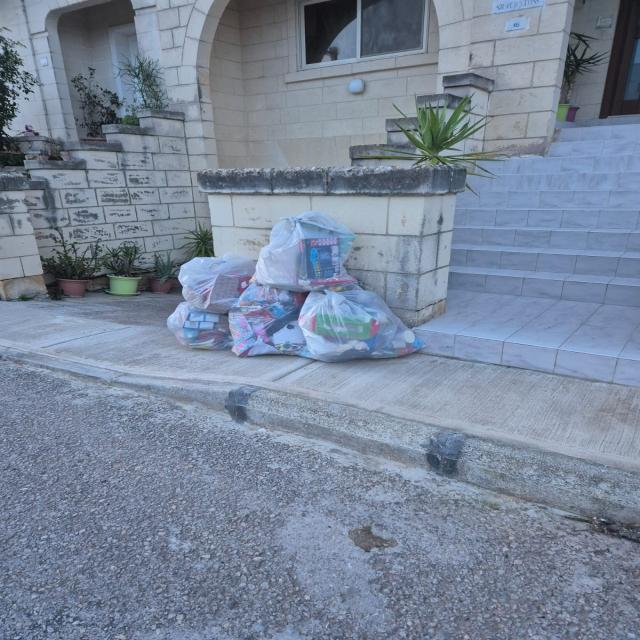grey_bag: (304, 287, 435, 368), (244, 205, 364, 290), (235, 277, 341, 367), (167, 302, 233, 360), (192, 249, 259, 304)
